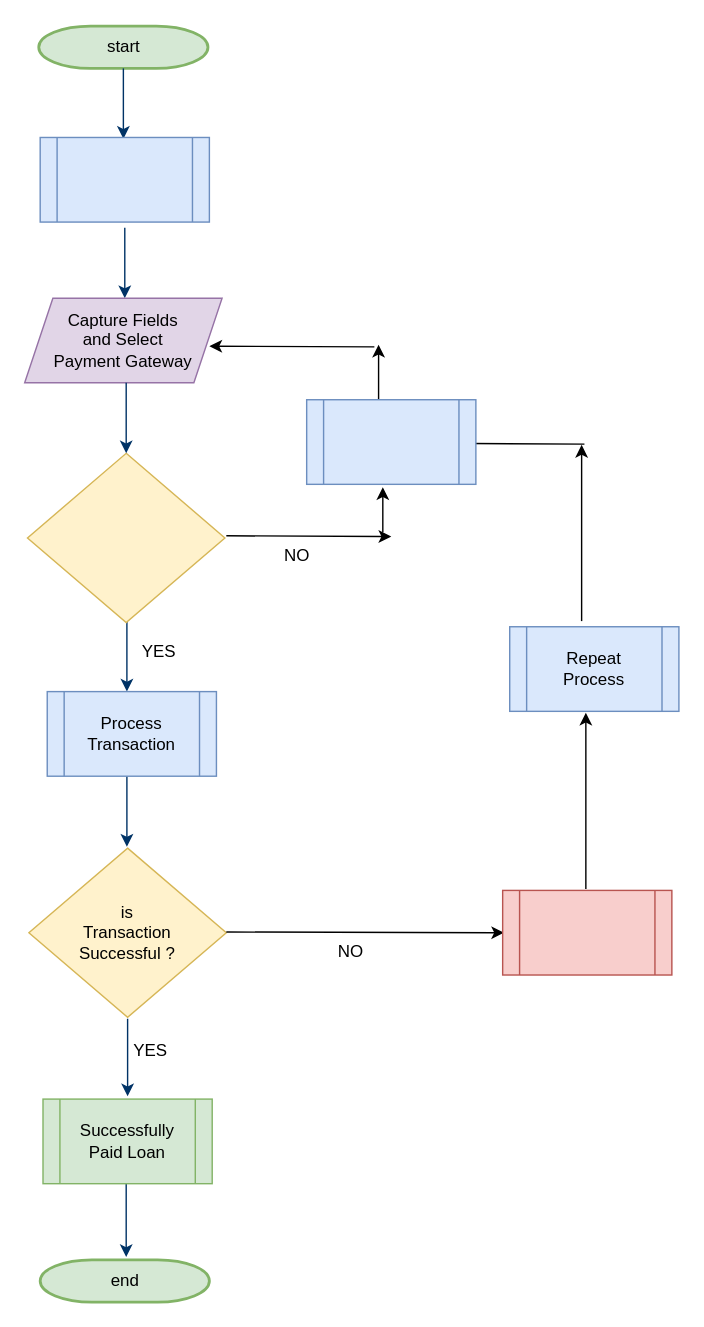
The diagram is 704 pixels wide and 1327 high, and some of its shapes have lost their labels. Each missing label, with the centre of its shape:
Check Captured Information: pixel 390 441
Chose Loan Application: pixel 124 179
Is the information Valid ?: pixel 125 537
Payment Failed: pixel 586 932
